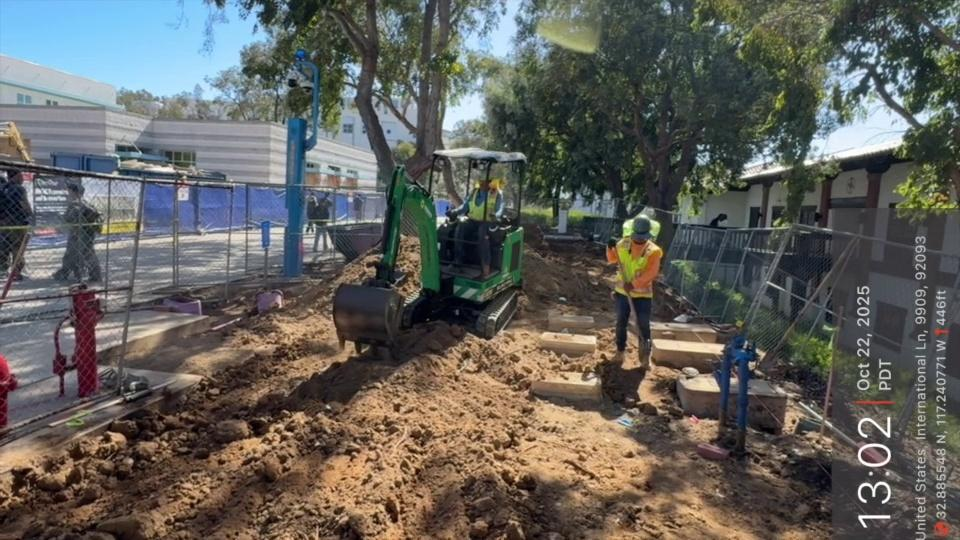Exacavator: (330, 146, 528, 360)
